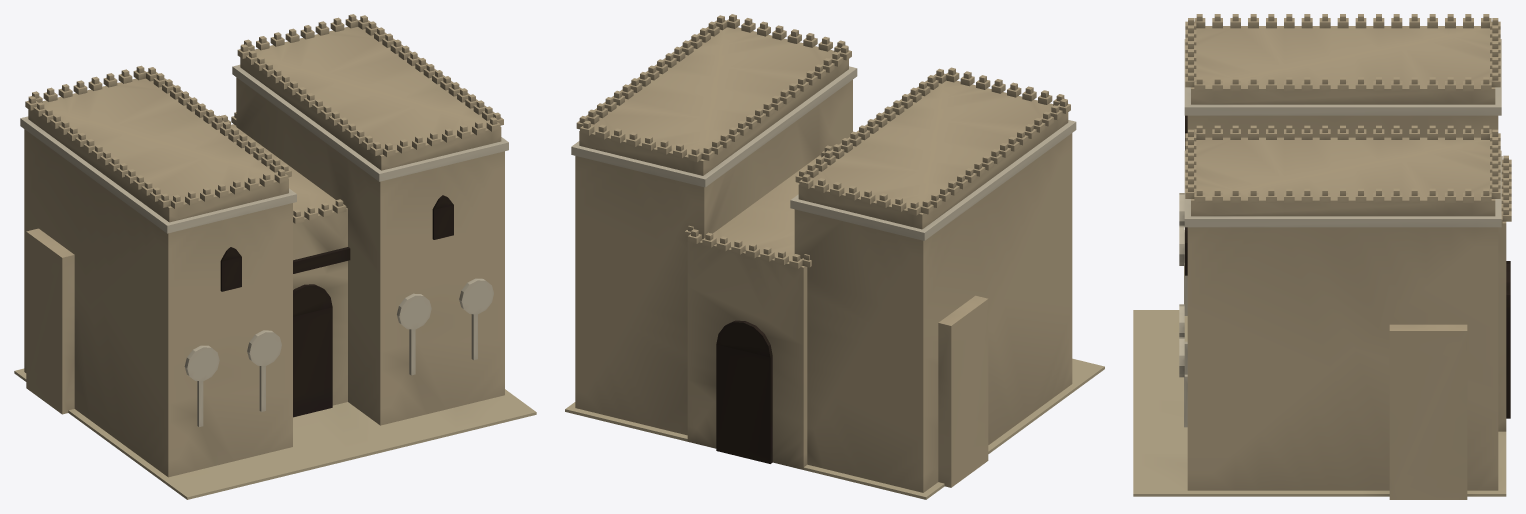
The model's file is bab-al-nasr.glb.
3 views of the same model, side by side, from view 1: azimuth 30°, elevation 25°; view 2: azimuth 150°, elevation 25°; view 3: azimuth 270°, elevation 25° (orthographic). The views are drawn at different scales.
Visible parts, largest first — view 1: p1_gate, p2_parapets, p0_ground; view 2: p1_gate, p2_parapets, p0_ground; view 3: p1_gate, p2_parapets, p0_ground.
Part boxes in pixels (x1,y1,x2,y2): p1_gate: (20, 64, 508, 477); p2_parapets: (25, 14, 503, 223); p0_ground: (14, 228, 536, 499); p1_gate: (571, 66, 1076, 492); p2_parapets: (576, 14, 1070, 268); p0_ground: (565, 295, 1104, 499); p1_gate: (1179, 39, 1510, 490); p2_parapets: (1185, 14, 1511, 225); p0_ground: (1133, 310, 1506, 499).
Bounding box in the file's own units: 29 × 21.47 × 24.35.
